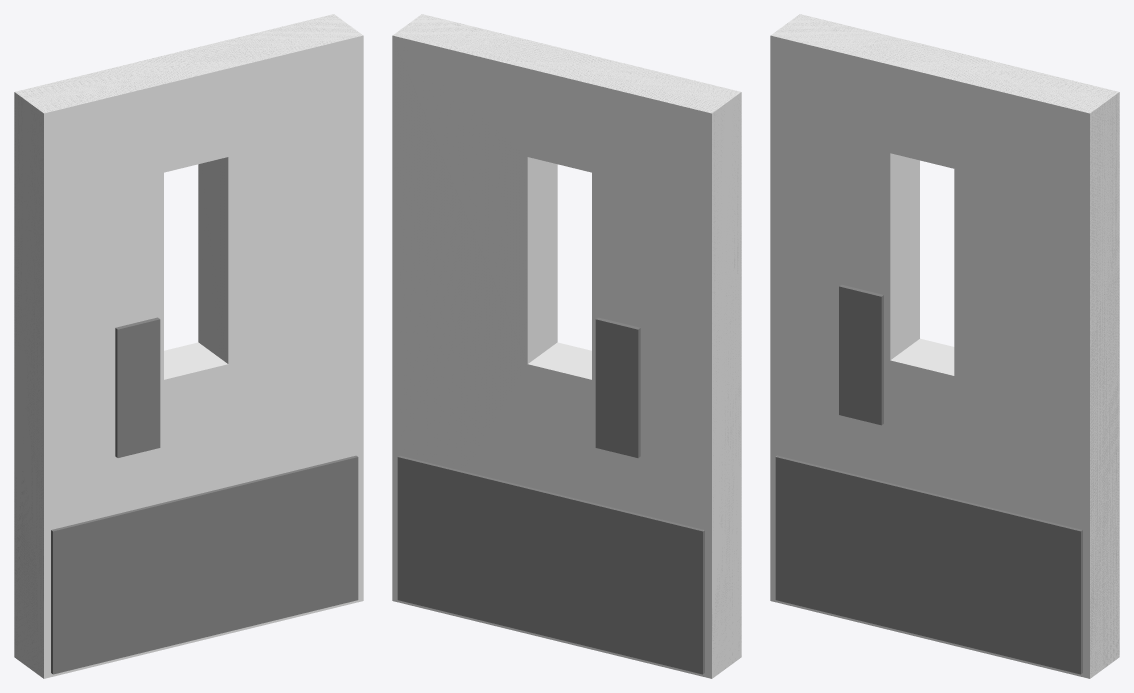
Rendered from Hospital Door.fbx.
3 views of the same model, side by side, from view 1: azimuth 30°, elevation 25°; view 2: azimuth 150°, elevation 25°; view 3: azimuth 330°, elevation 25° (orthographic).
Parts seen in each view (by area): view 1: Door; view 2: Door; view 3: Door.
Boxes of the visible parts, x1=… form: Door: x1=14, y1=14, x2=363, y2=678; Door: x1=392, y1=14, x2=741, y2=678; Door: x1=770, y1=14, x2=1119, y2=678.
Bounding box in the file's own units: 237 × 400 × 44.6.
